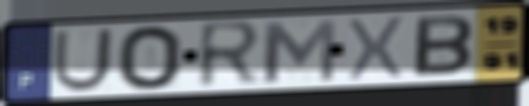B: (409, 14, 476, 79)
M: (259, 17, 339, 85)
O: (115, 24, 186, 93)
R: (195, 18, 266, 92)
U: (50, 26, 117, 94)
X: (345, 13, 408, 82)
